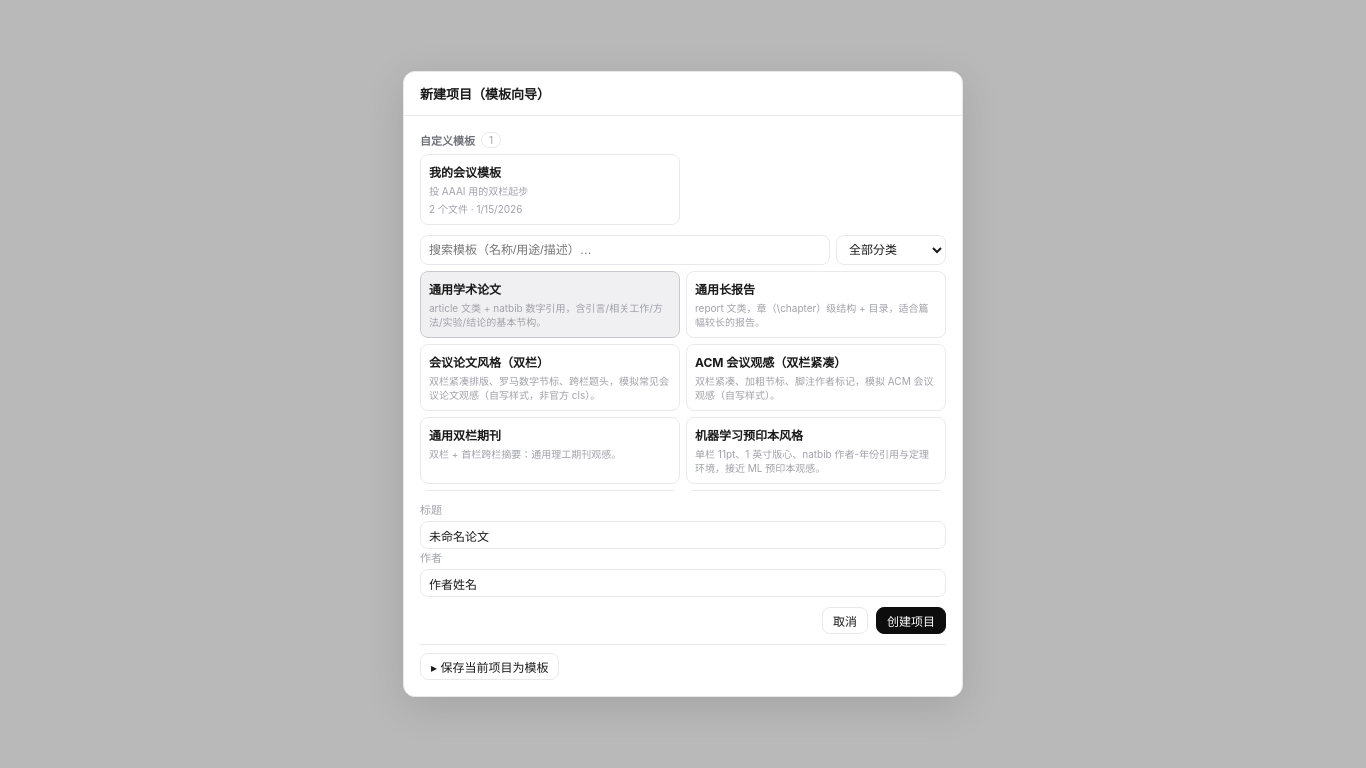
Test case: TemplateWizard 选中自定义模板加载 › 再次点击已选中的自定义模板取消选中，创建按钮禁用
This screenshot has width=1366, height=768.
Click the list item with class "sf-wiz-item" that starts with "我的会议模板". click: [550, 190]
box: [420,154,680,225]
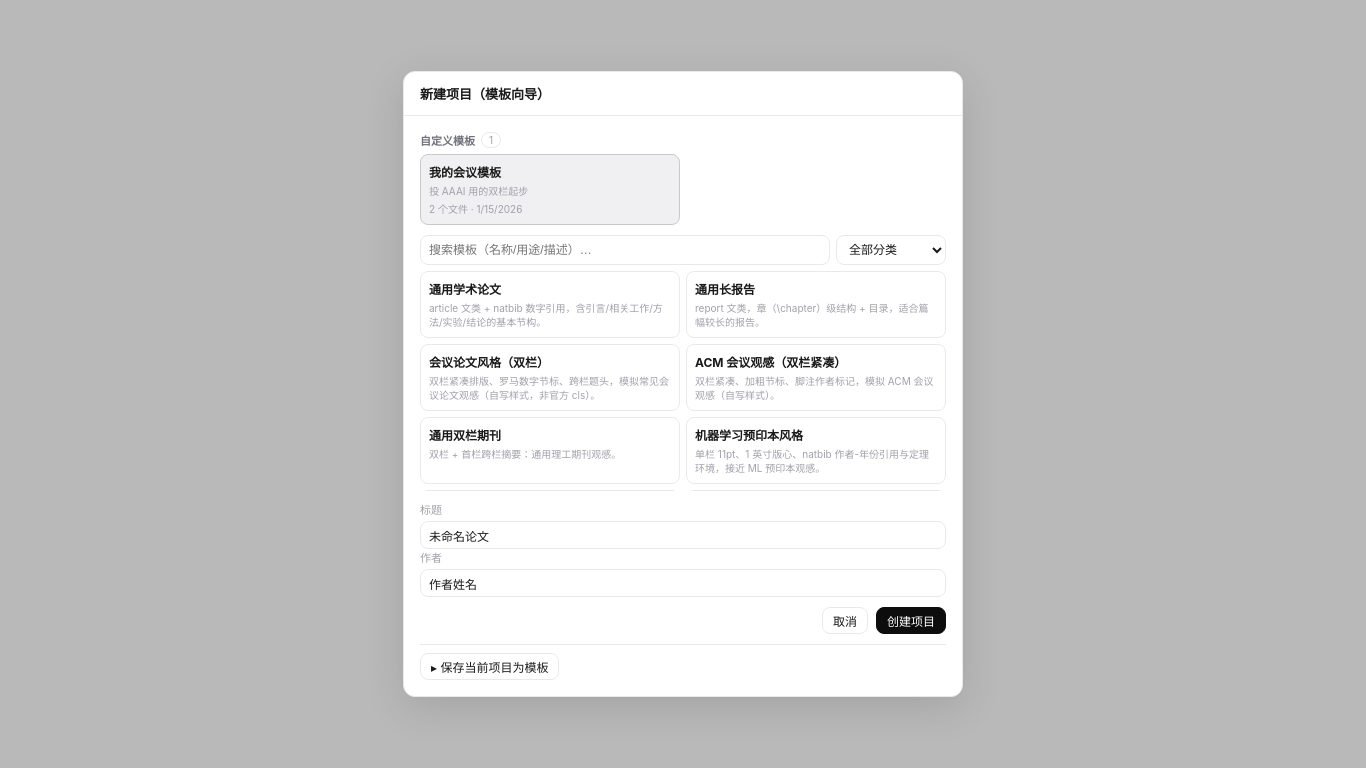
Click the list item with class "sf-wiz-item" that starts with "我的会议模板". click: [550, 190]
box: [420,154,680,225]
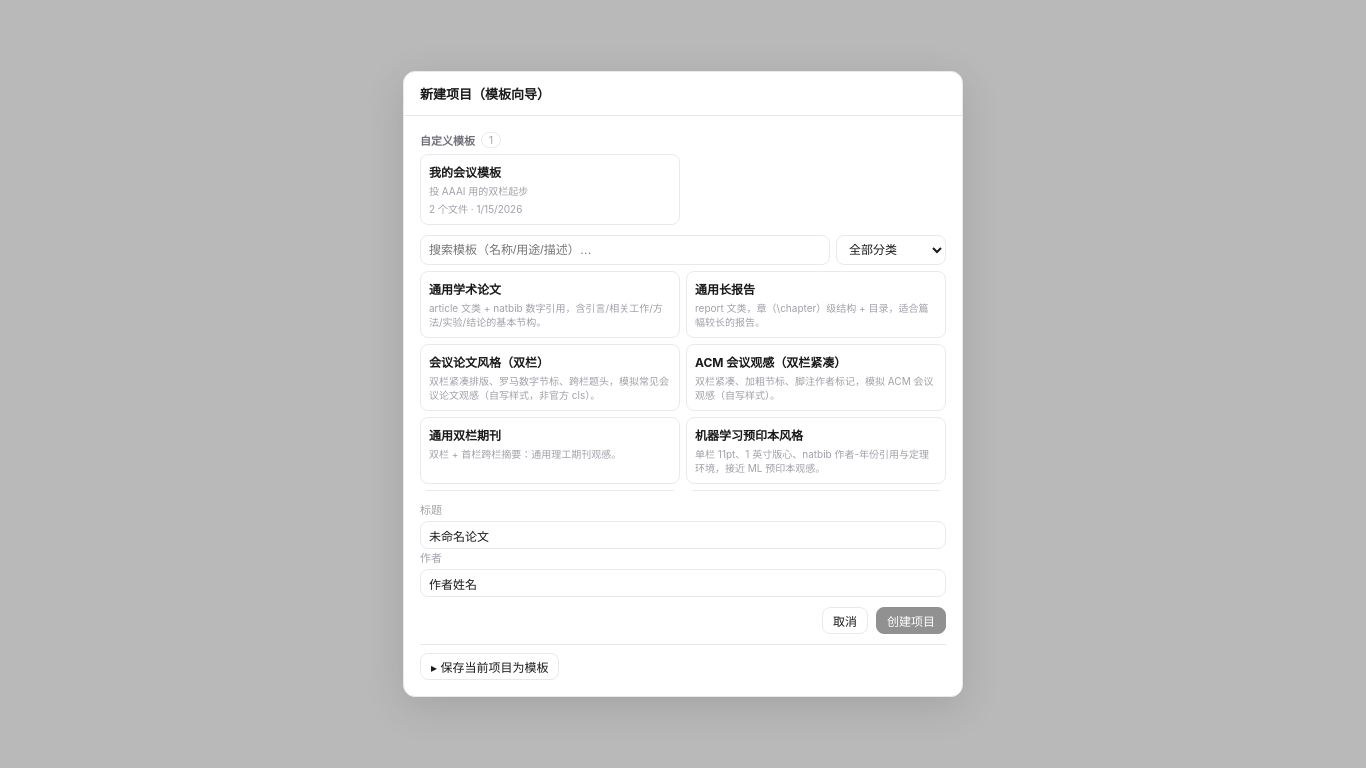
Result: the button "创建项目" is disabled at [876,607,946,634]
